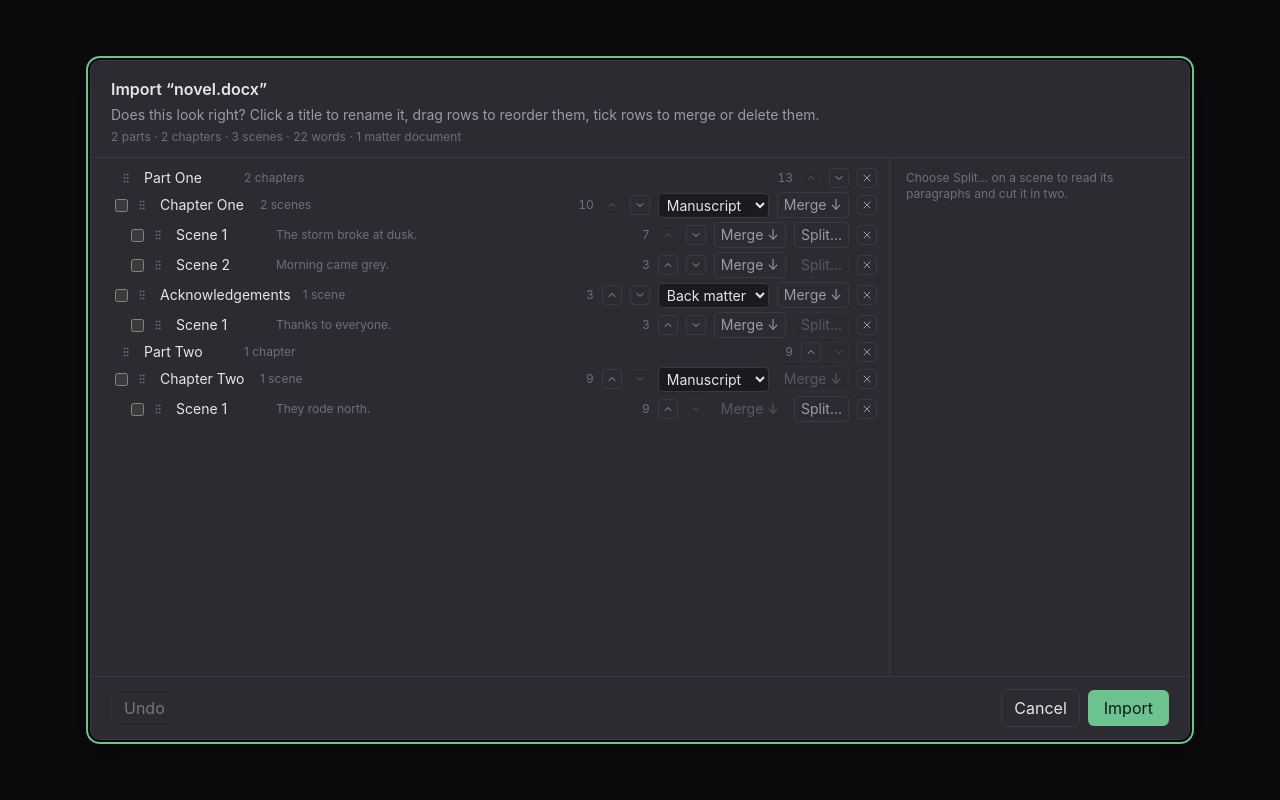
Scenario: ImportDialog (F-12.2) › deletes a chapter with its × and the summary follows; Undo brings it back
Expected: the button with test id "import-undo" is disabled, left=111, top=689, right=178, bottom=727
Click the button with test id "import-delete" at (867, 205), box left=857, top=195, right=877, bottom=215
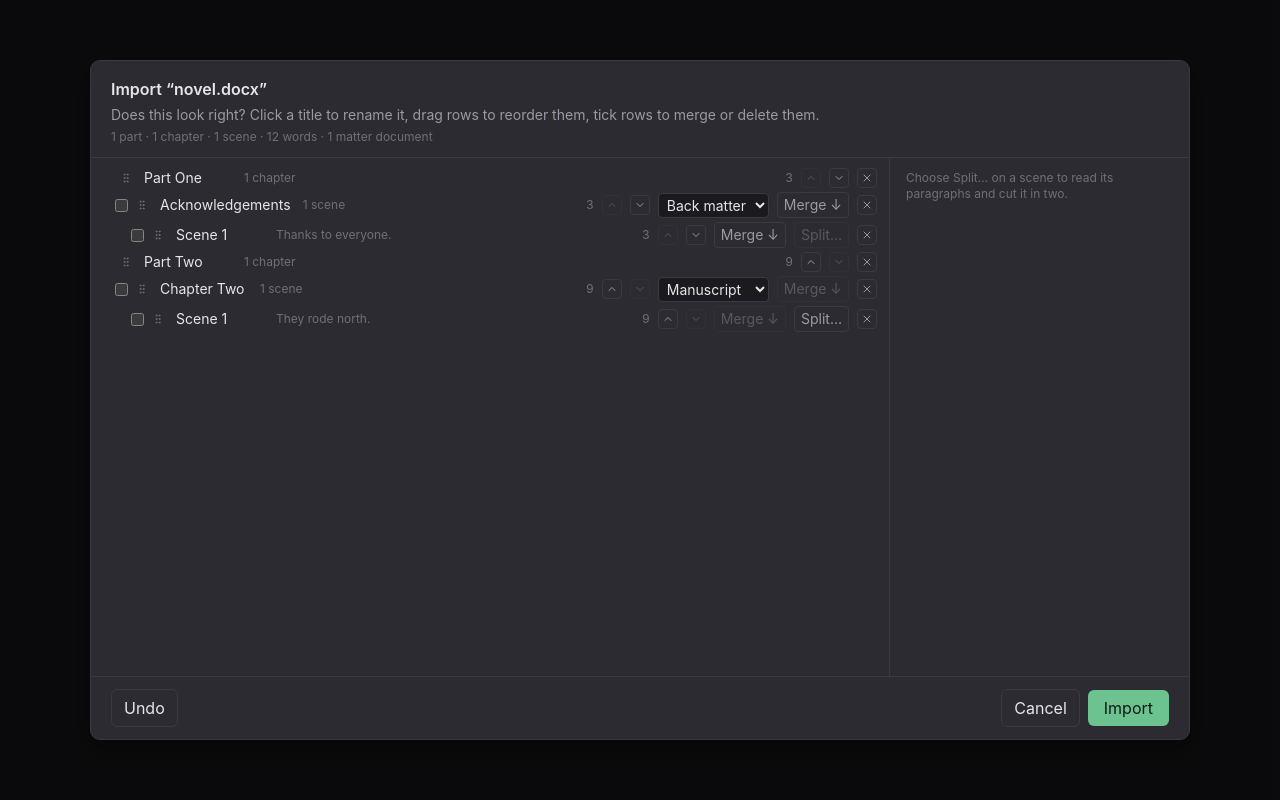
Result: the text with test id "import-summary" shows "1 part · 1 chapter · 1 scene" at left=111, top=129, right=433, bottom=144
Click the button with test id "import-undo" at (144, 708), box left=111, top=689, right=178, bottom=727
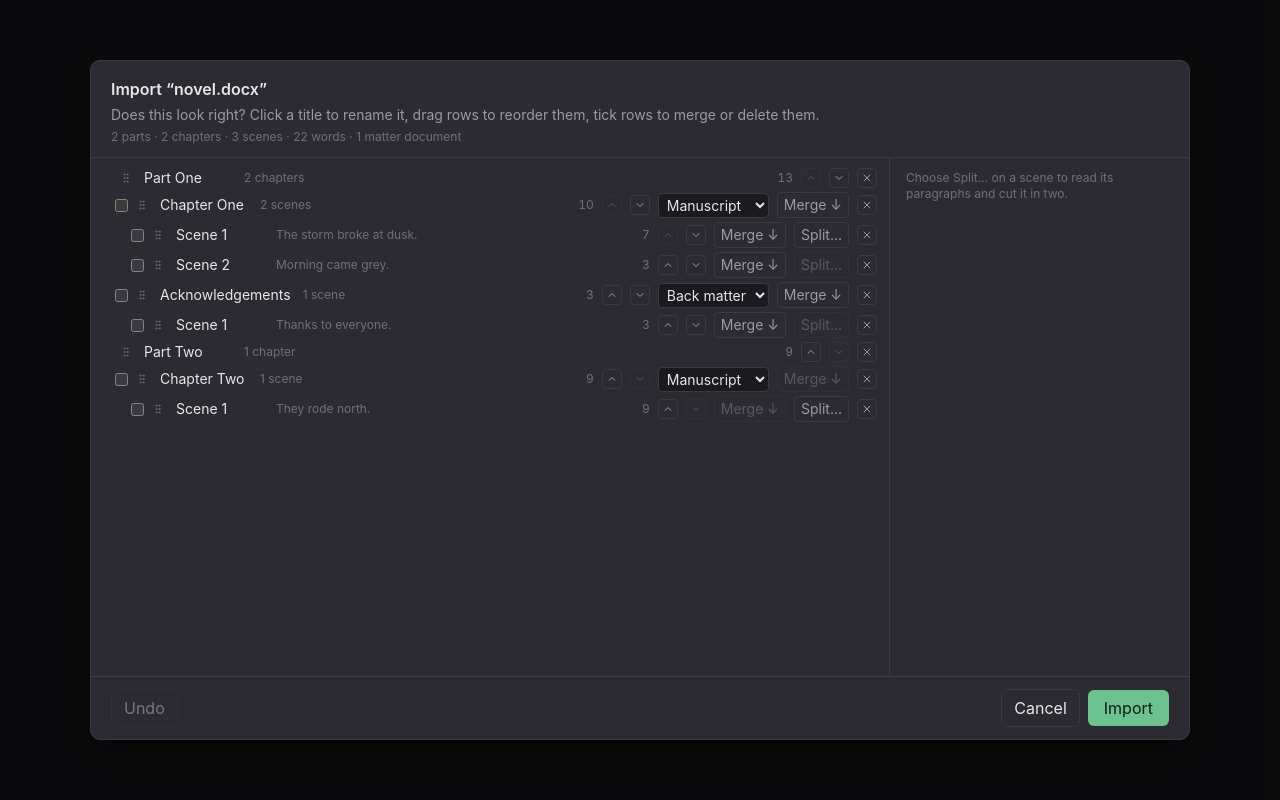
Result: the 3rd element with test id "import-node" is shown at left=91, top=220, right=889, bottom=250
Result: the text with test id "import-summary" shows "2 chapters · 3 scenes" at left=111, top=129, right=461, bottom=144
